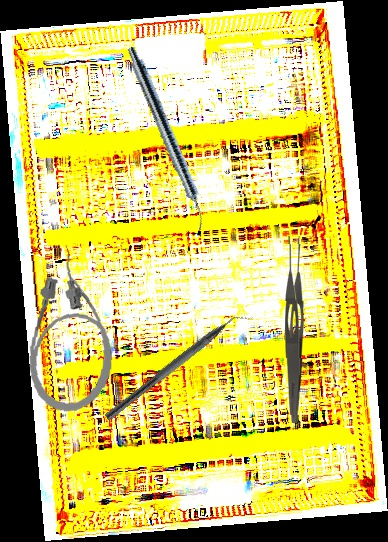Cannula: (22, 251, 124, 417)
Chopper: (104, 303, 255, 431)
Dressing Forceps: (283, 235, 308, 424)
Handpiece: (121, 44, 214, 232)
